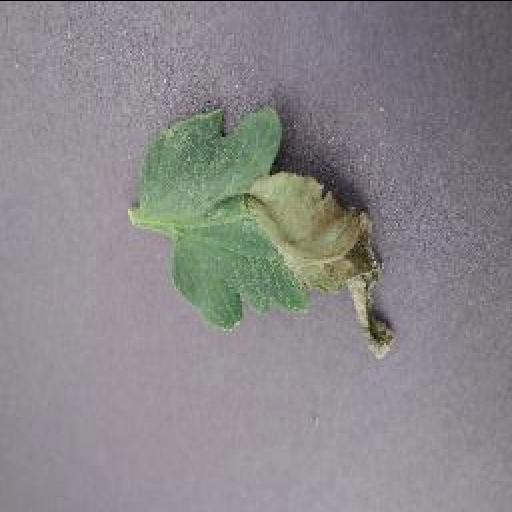disease_tomato: (132, 98, 396, 356)
